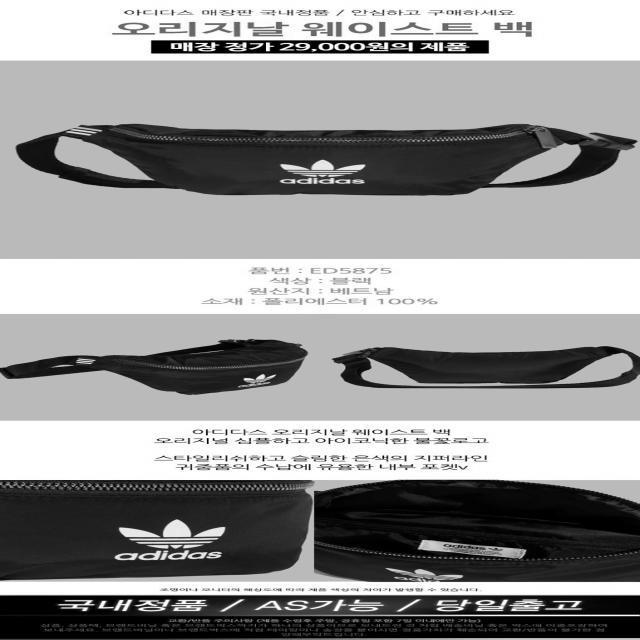Adidas: (102, 513, 276, 555), (239, 143, 412, 184)
